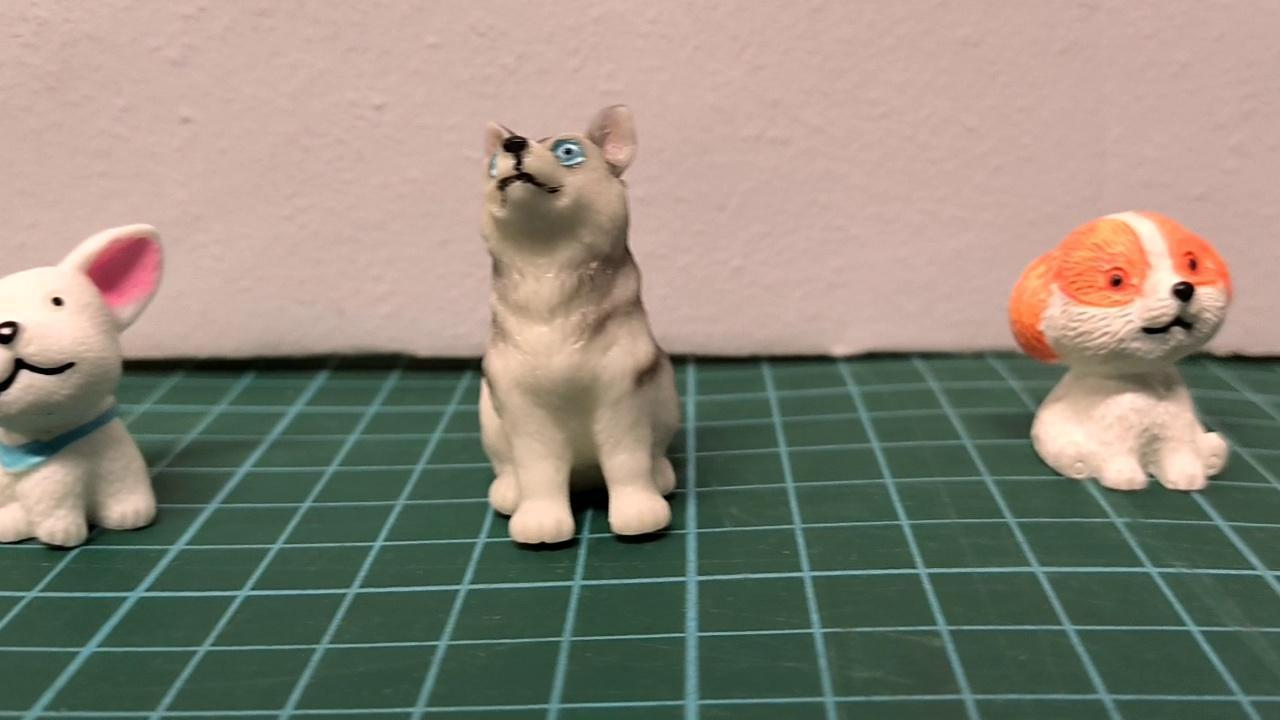pet: (476, 102, 686, 544), (1007, 209, 1229, 494), (0, 224, 165, 547)
